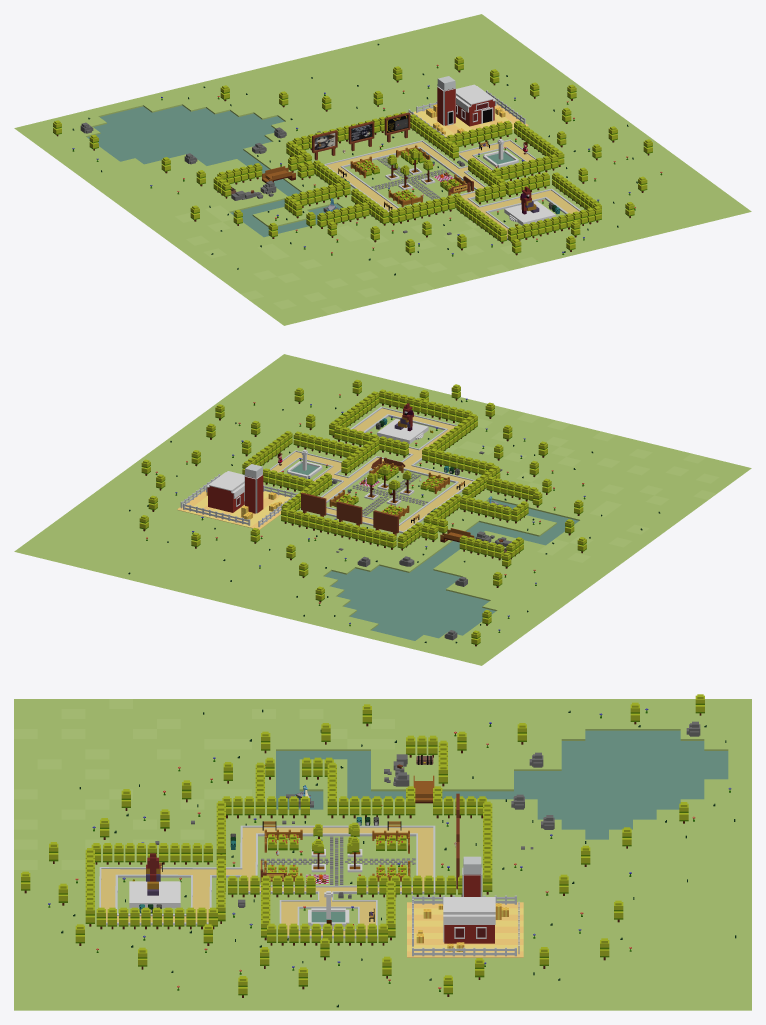
The model's file is ProyectoWeb.glb.
3 renders of one model, top to bottom at view 1: azimuth 30°, elevation 25°; view 2: azimuth 150°, elevation 25°; view 3: azimuth 270°, elevation 25°, orthographic. The views are drawn at different scales.
Parts seen in each view (by area): view 1: level, path, tree.015, tree.011, tree.002, tree.001, windmill, tree.014, stones, tree.005, tree.003, tree.019 (+14 smaller); view 2: level, path, tree.006, tree.015, stones, tree.011, farm fences, tree.001, windmill, tree.018, tree.013, tree.019 (+12 smaller); view 3: level, path, stones, tree.013, tree.003, tree.014, tree.005, tree.008, tree.009, ceiling, tree.004, farm fences (+14 smaller).
Part boxes in pixels (left/top/right/bottom): level: left=14, top=14, right=751, bottom=325; path: left=324, top=139, right=580, bottom=240; tree.015: left=507, top=206, right=601, bottom=242; tree.011: left=389, top=193, right=461, bottom=225; tree.002: left=446, top=120, right=512, bottom=147; tree.001: left=492, top=154, right=558, bottom=180; windmill: left=437, top=76, right=455, bottom=125; tree.014: left=456, top=197, right=506, bottom=243; stones: left=410, top=104, right=528, bottom=136; tree.005: left=410, top=114, right=458, bottom=160; tree.003: left=514, top=120, right=564, bottom=166; tree.019: left=317, top=202, right=369, bottom=228; level: left=14, top=354, right=751, bottom=665; path: left=270, top=406, right=474, bottom=533; tree.006: left=281, top=507, right=396, bottom=549; tree.015: left=378, top=389, right=472, bottom=422; stones: left=177, top=490, right=290, bottom=529; tree.011: left=422, top=447, right=495, bottom=475; farm fences: left=180, top=474, right=297, bottom=527; tree.001: left=293, top=431, right=359, bottom=457; windmill: left=244, top=464, right=263, bottom=513; tree.018: left=460, top=496, right=511, bottom=522; tree.013: left=329, top=391, right=379, bottom=437; tree.019: left=486, top=476, right=538, bottom=502; level: left=14, top=699, right=751, bottom=1010; path: left=99, top=825, right=435, bottom=938; stones: left=407, top=902, right=523, bottom=957; tree.013: left=96, top=907, right=217, bottom=929; tree.003: left=267, top=923, right=387, bottom=945; tree.014: left=91, top=843, right=212, bottom=864; tree.005: left=357, top=875, right=462, bottom=897; tree.008: left=327, top=796, right=415, bottom=818; tree.009: left=222, top=796, right=309, bottom=818; ceiling: left=443, top=897, right=495, bottom=924; tree.004: left=228, top=875, right=315, bottom=897; farm fences: left=412, top=895, right=519, bottom=956.
Size of the model in its own units: 318 by 29.03 by 318.
Materials: 84 (3 with a texture image).
